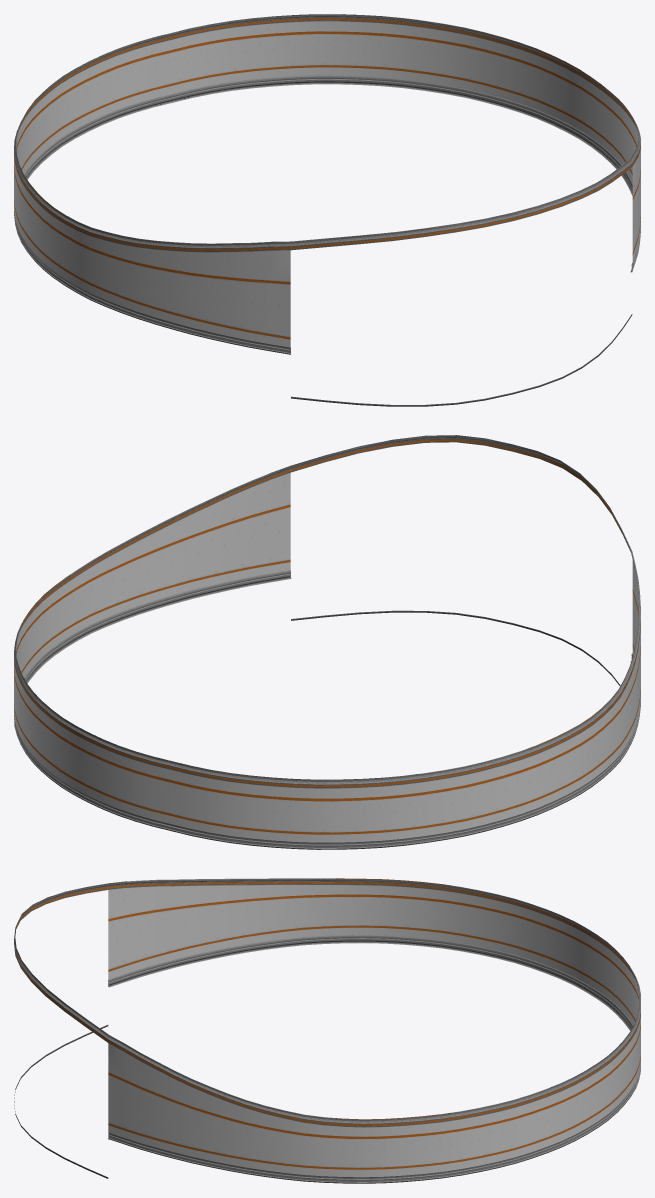
The model's file is FirstFloorWalls.fbx.
3 views of the same model, one above another, from view 1: azimuth 30°, elevation 25°; view 2: azimuth 150°, elevation 25°; view 3: azimuth 270°, elevation 25° (orthographic). The views are drawn at different scales.
Parts seen in each view (by area): view 1: FirstFloorWalls; view 2: FirstFloorWalls; view 3: FirstFloorWalls.
Part boxes in pixels (bbox=[...]): FirstFloorWalls: bbox=[14, 14, 640, 406]; FirstFloorWalls: bbox=[14, 435, 640, 849]; FirstFloorWalls: bbox=[14, 878, 640, 1183].
Size of the model in its own units: 121 by 38.78 by 132.
